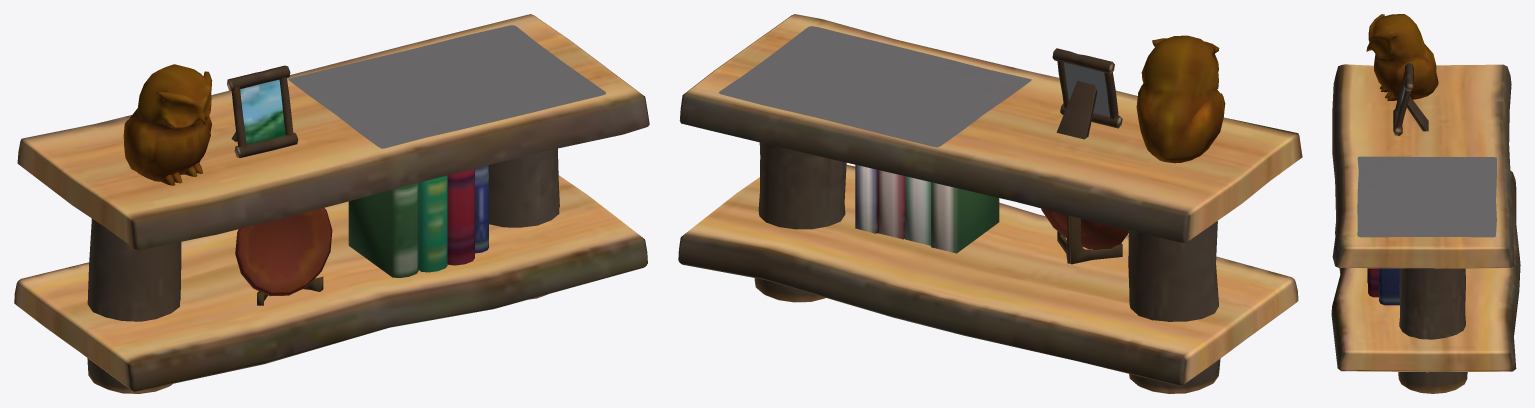
3 renders of one model, left to right at view 1: azimuth 30°, elevation 25°; view 2: azimuth 150°, elevation 25°; view 3: azimuth 270°, elevation 25°, orthographic. The views are drawn at different scales.
Size of the model in its own units: 18.8 by 11.05 by 8.12.
Materials: 2 (2 with a texture image).
